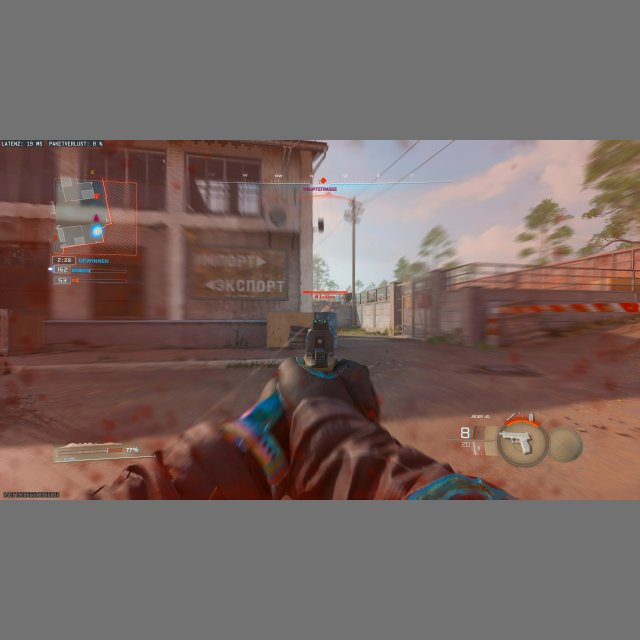player: (323, 303, 338, 342)
